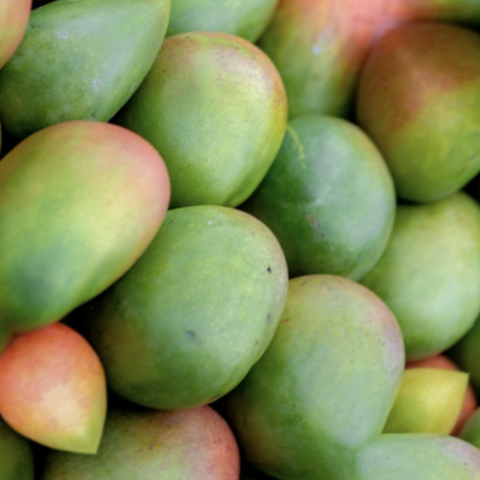mango: (41, 151, 345, 453), (162, 231, 460, 480), (0, 66, 220, 361), (214, 67, 458, 317)
